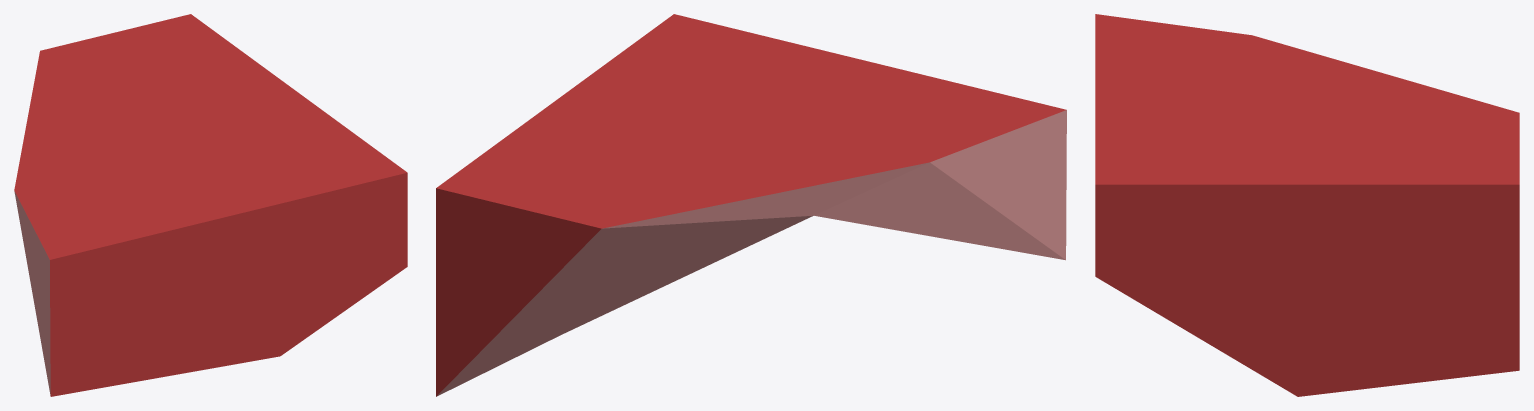
Rendered from wrong2.fbx.
3 renders of one model, left to right at view 1: azimuth 30°, elevation 25°; view 2: azimuth 150°, elevation 25°; view 3: azimuth 270°, elevation 25°, orthographic. The views are drawn at different scales.
Visible parts, largest first — view 1: wrong2; view 2: wrong2; view 3: wrong2.
Boxes of the visible parts, x1=… form: wrong2: x1=14, y1=14, x2=407, y2=396; wrong2: x1=436, y1=14, x2=1066, y2=396; wrong2: x1=1095, y1=14, x2=1519, y2=396.
Size of the model in its own units: 55.6 by 32.21 by 58.33.
